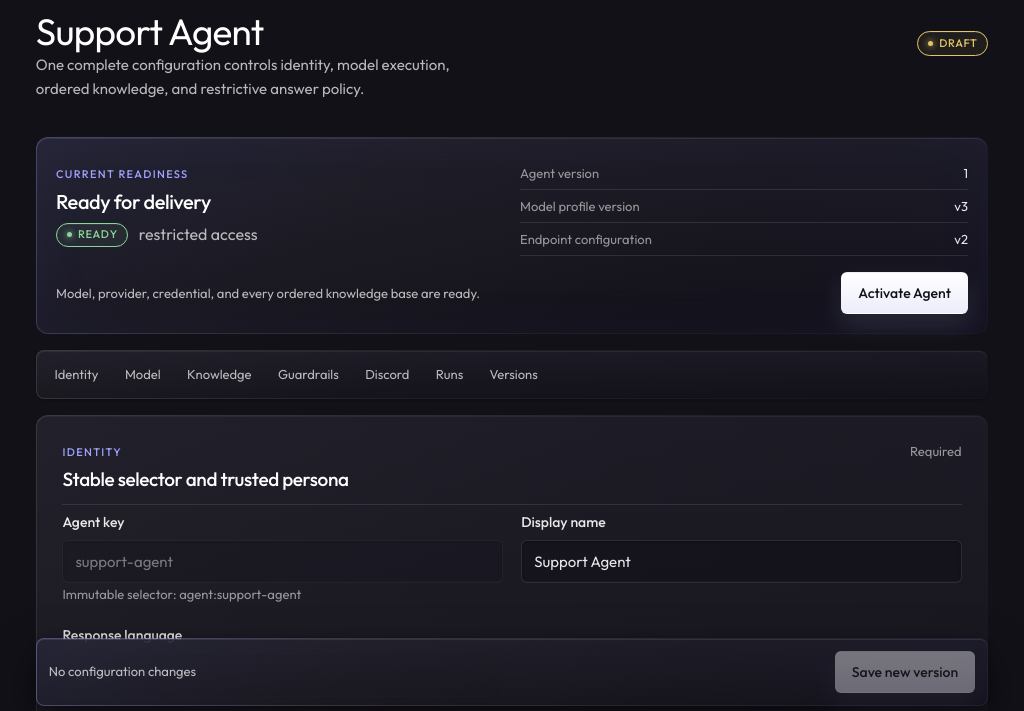
detail page replaces the complete configuration with expected version, then activates only when ready
The width and height of the screenshot is (1024, 711).
Expected: the heading "Ready for delivery" is shown, [56,189,211,214]
Expected: the text "restricted access" is shown, [139,222,258,248]
Replace the text in the field labelled "Display name" with "Reordered Agent": (741, 562) [521,540,962,583]
(page scrolled)
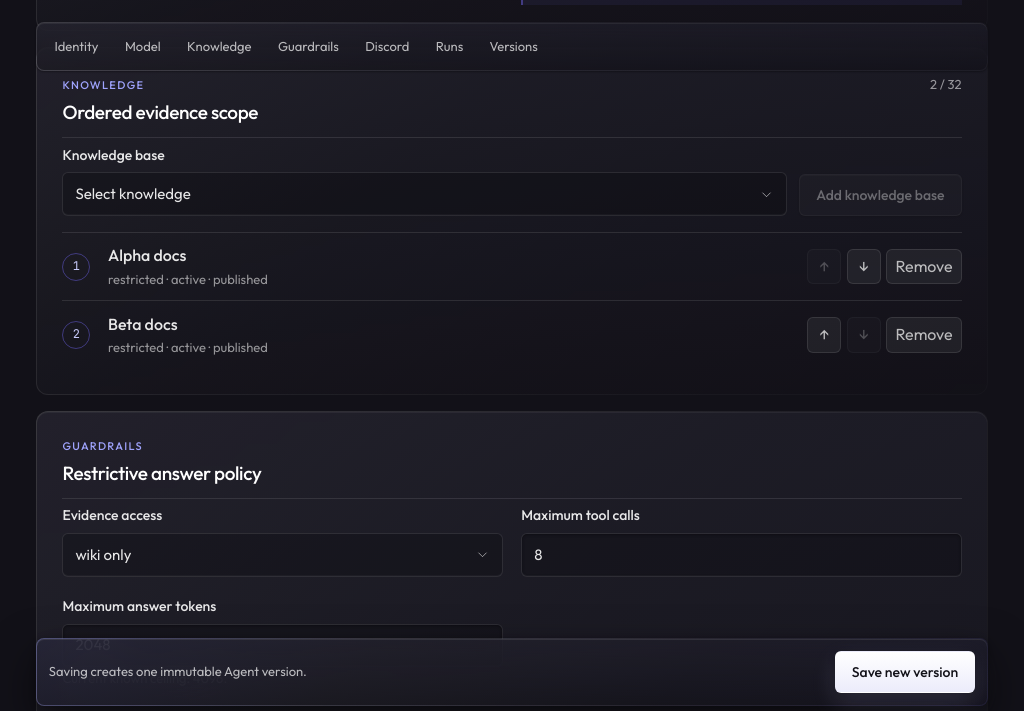
Click the button named "Move Beta docs up": (824, 335) [807,317,841,353]
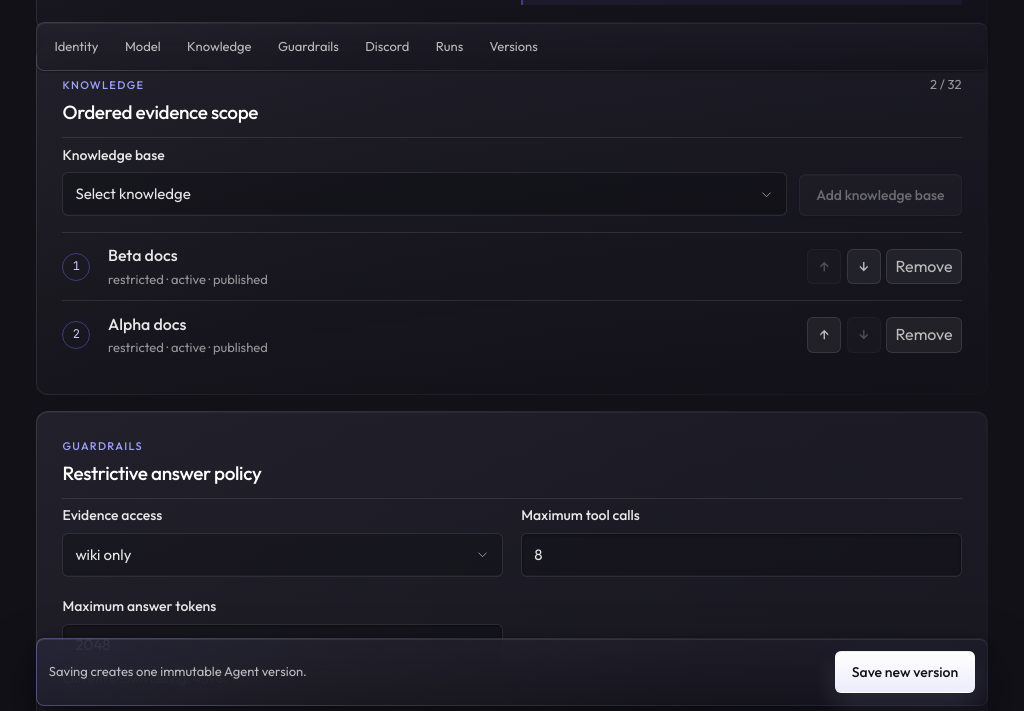
Click the button "Save new version": (905, 672) [835,651,975,693]
(page scrolled)
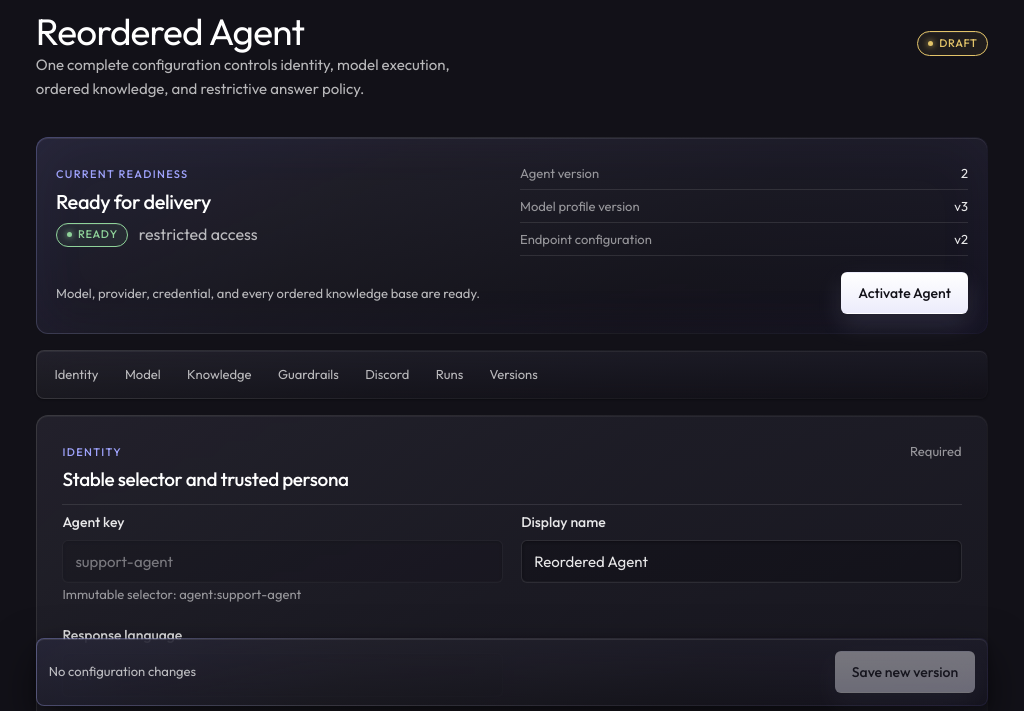
Click the button "Activate Agent": (905, 293) [841,272,968,314]
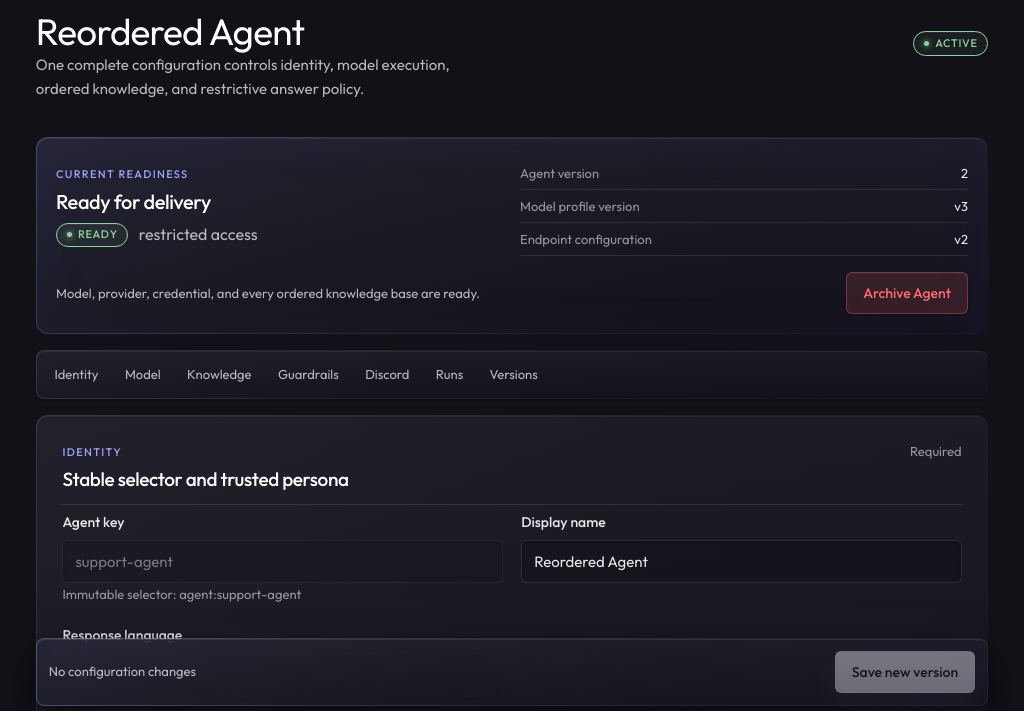
Now the button "Archive Agent" is shown, box [846,272,968,314]
